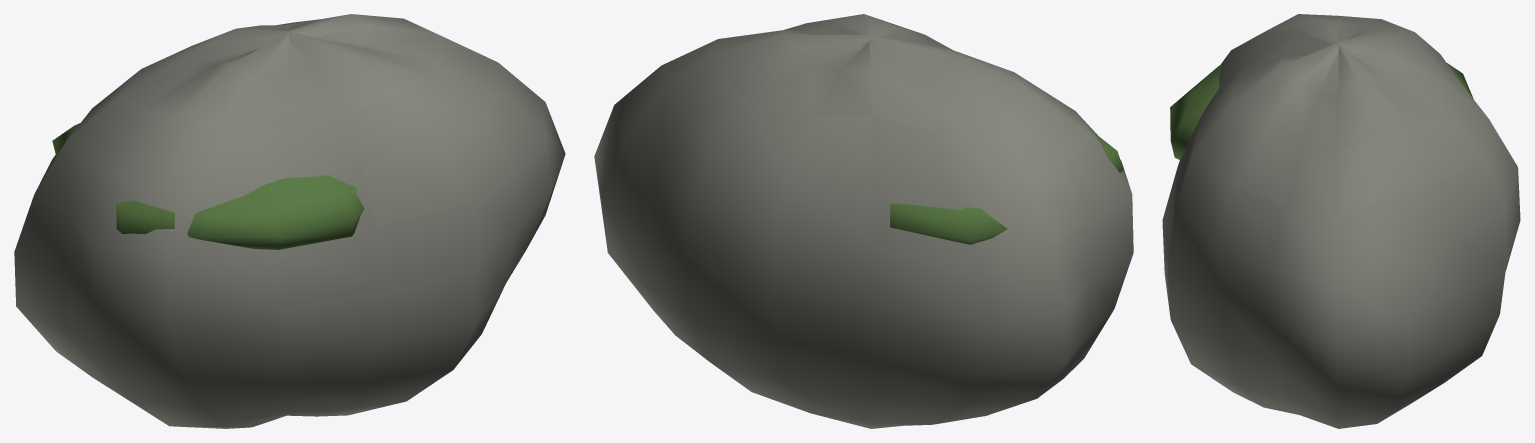
The model's file is mossy_outcrop.glb.
The picture shows the model from 3 angles, left to right: view 1: azimuth 30°, elevation 25°; view 2: azimuth 150°, elevation 25°; view 3: azimuth 270°, elevation 25°; orthographic projection. The views are drawn at different scales.
Parts seen in each view (by area): view 1: mossy_outcrop_painted_export; view 2: mossy_outcrop_painted_export; view 3: mossy_outcrop_painted_export.
Boxes of the visible parts, x1,y1,x2,y2 form: mossy_outcrop_painted_export: [14, 14, 565, 428]; mossy_outcrop_painted_export: [594, 14, 1133, 428]; mossy_outcrop_painted_export: [1162, 14, 1520, 428].
Size of the model in its own units: 5.12 by 3.62 by 3.3.
